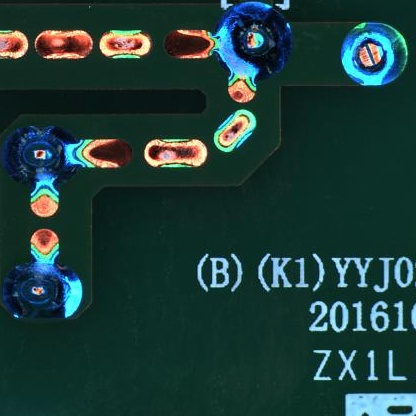spot: (219, 2, 294, 80), (339, 19, 408, 91), (3, 262, 82, 321), (4, 126, 81, 186)
